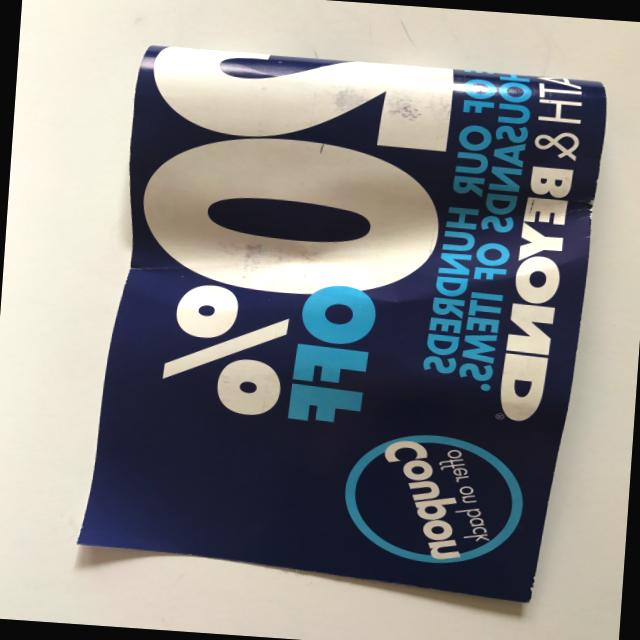Paper: (64, 35, 609, 612)
